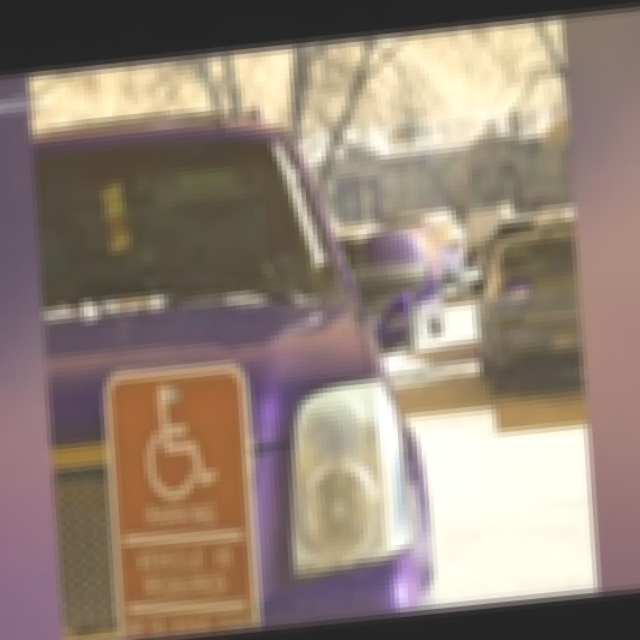ISA: (132, 369, 220, 511)
